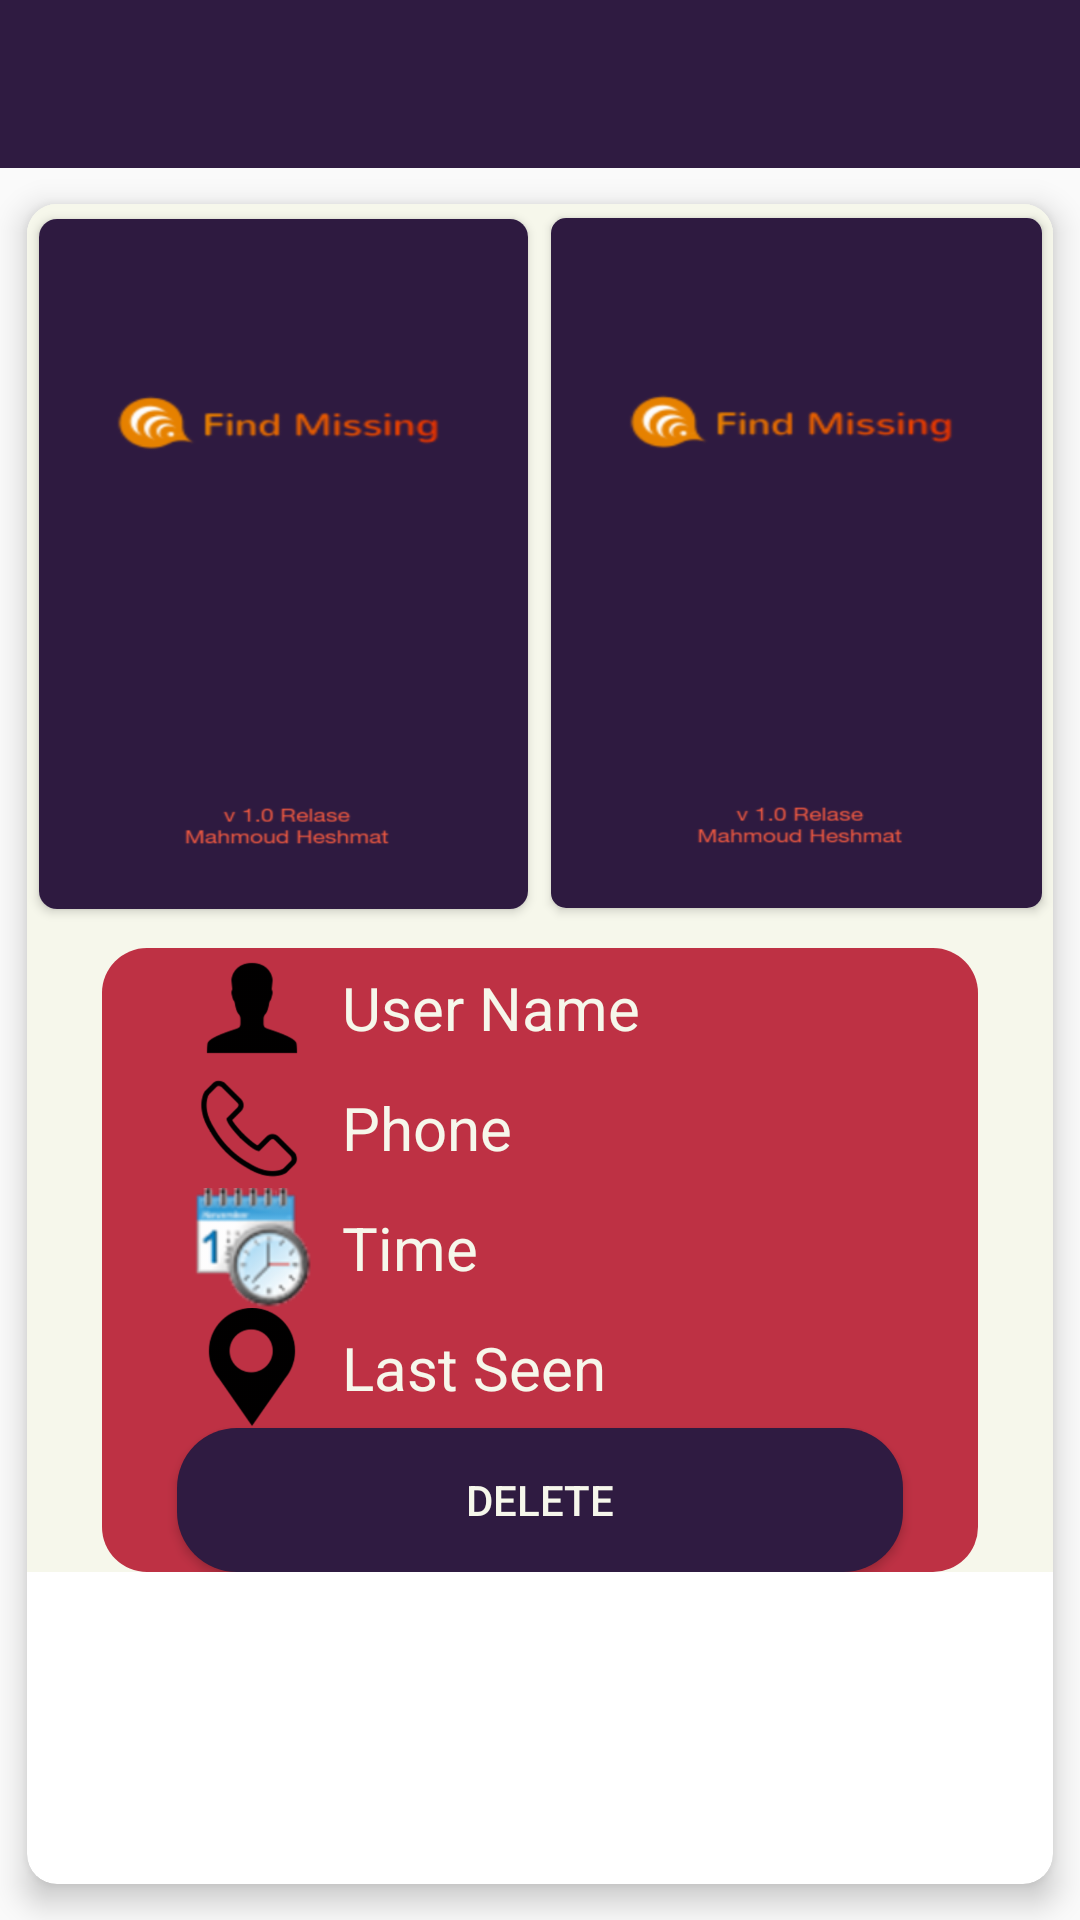

Icons on this 1080x1920 Android screen, each with the point to tap as [x,y]:
date: [253,1247]
location: [252,1367]
person: [252,1008]
